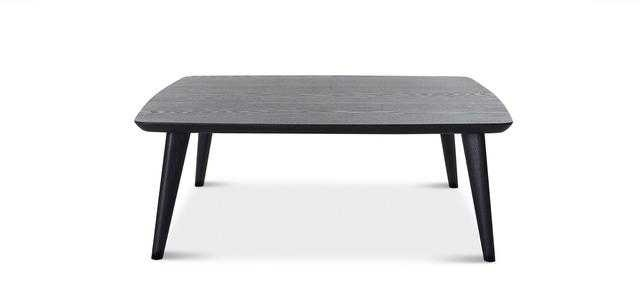obstacle: (135, 75, 512, 261)
